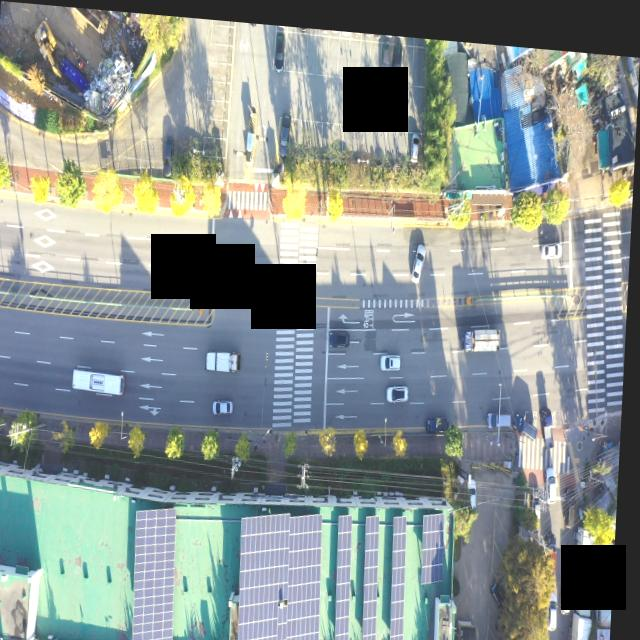car: (517, 399, 543, 432), (494, 568, 515, 608), (411, 233, 429, 277), (548, 450, 562, 493), (390, 34, 403, 77), (491, 397, 515, 419), (568, 476, 580, 519), (163, 134, 176, 173), (381, 33, 392, 75), (330, 322, 353, 342), (552, 581, 563, 620), (391, 375, 412, 395), (534, 478, 547, 510), (382, 344, 405, 362), (275, 25, 285, 66), (409, 122, 421, 154), (217, 393, 238, 411), (542, 231, 563, 249), (471, 465, 482, 499), (280, 108, 290, 145), (568, 562, 577, 601)
large_bus: (77, 364, 131, 390)
medium_truck: (464, 315, 505, 344), (209, 344, 244, 370)
small_truck: (541, 395, 559, 440), (551, 517, 563, 559), (430, 406, 454, 425), (563, 637, 578, 640)
